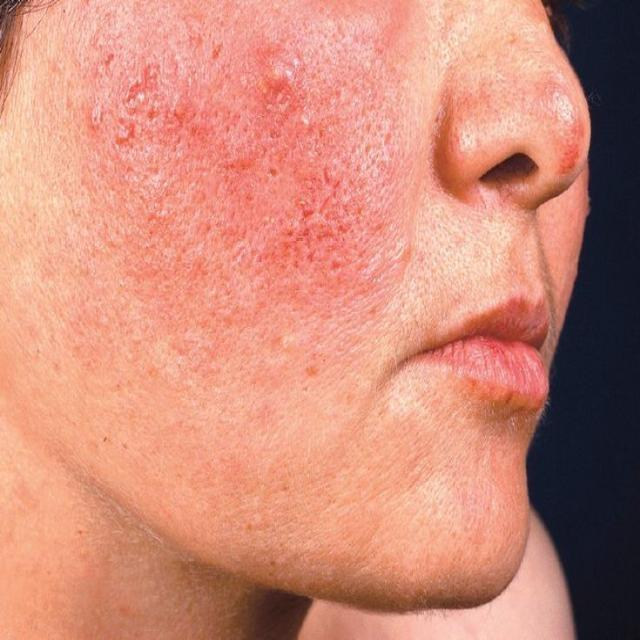Rosacea: (58, 24, 393, 348), (456, 79, 588, 181)
